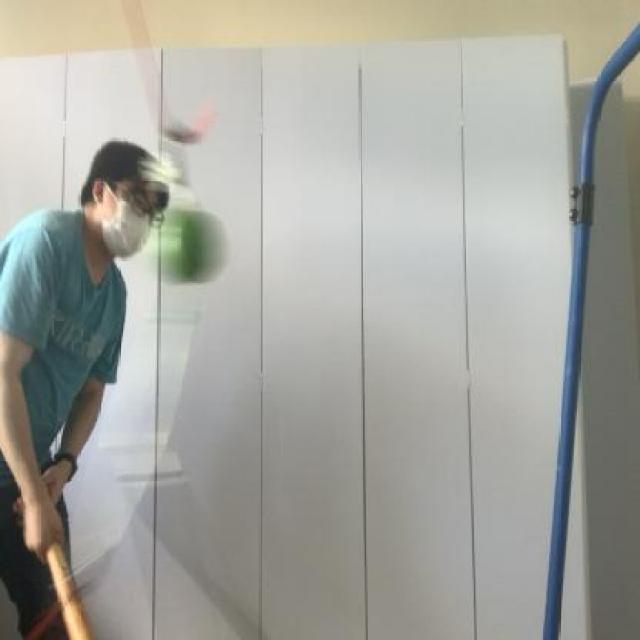baseball: (146, 195, 231, 294)
